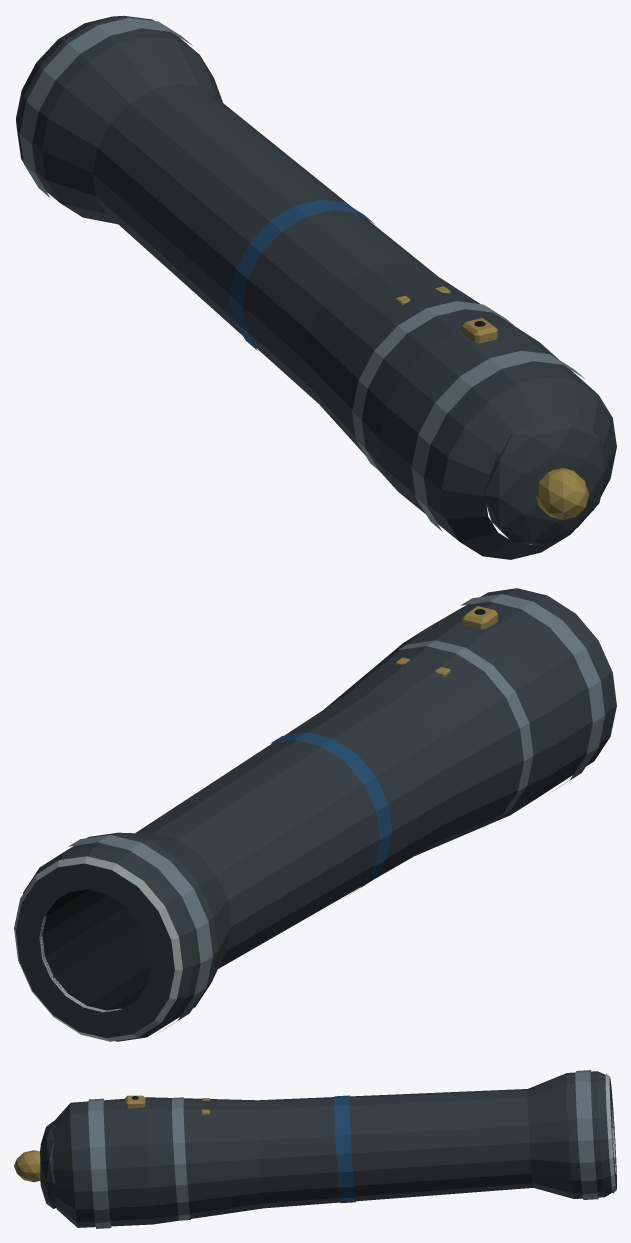
The model's file is Barrel.glb.
The picture shows the model from 3 angles, top to bottom: view 1: azimuth 30°, elevation 25°; view 2: azimuth 150°, elevation 25°; view 3: azimuth 270°, elevation 25°; orthographic projection. The views are drawn at different scales.
Parts seen in each view (by area): view 1: Sculpture; view 2: Sculpture; view 3: Sculpture.
Part boxes in pixels (x1,y1,x2,y2): Sculpture: (16,15,616,559); Sculpture: (14,588,616,1041); Sculpture: (14,1070,616,1228).
Size of the model in its own units: 0.848 by 1.05 by 3.93.
